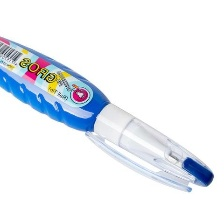correction_fluid: (0, 27, 216, 195)
